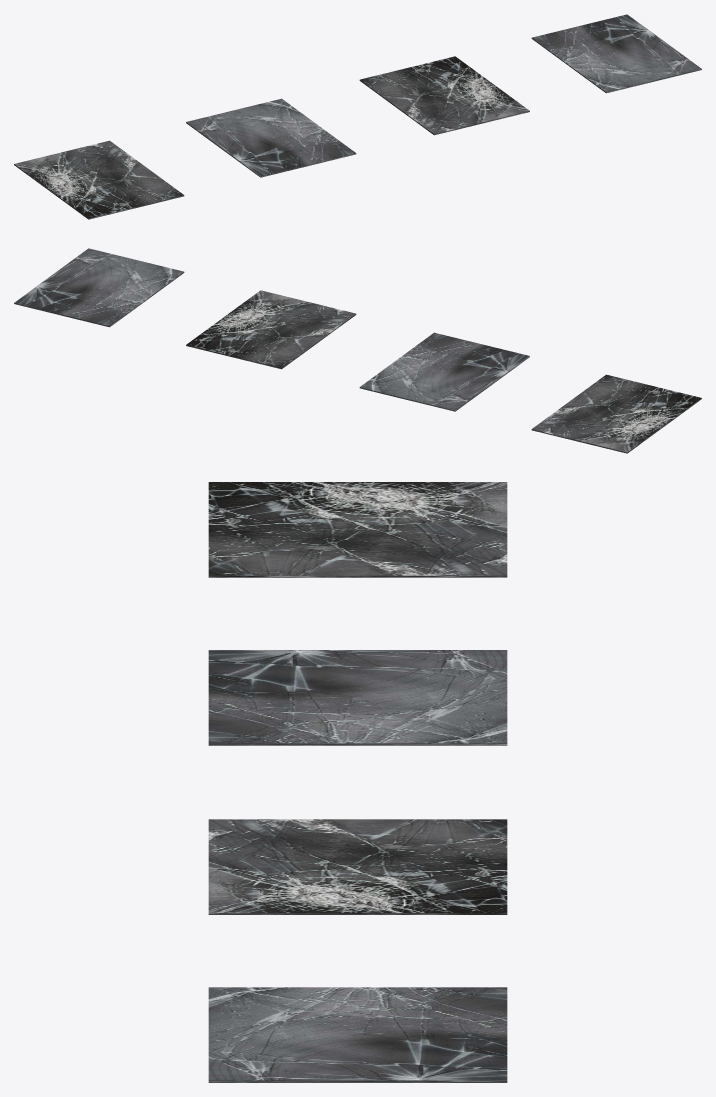
File: mirror.FBX
The picture shows the model from 3 angles, top to bottom: view 1: azimuth 30°, elevation 25°; view 2: azimuth 150°, elevation 25°; view 3: azimuth 270°, elevation 25°; orthographic projection. The views are drawn at different scales.
Visible parts, largest first — view 1: Box001, Box002, Box003, Box004; view 2: Box001, Box002, Box003, Box004; view 3: Box001, Box002, Box003, Box004.
Boxes of the visible parts, left/top/right/bottom form: Box001: left=14, top=140, right=184, bottom=219; Box002: left=186, top=98, right=356, bottom=177; Box003: left=531, top=14, right=701, bottom=93; Box004: left=359, top=56, right=529, bottom=135; Box001: left=531, top=374, right=701, bottom=453; Box002: left=359, top=332, right=529, bottom=411; Box003: left=14, top=248, right=184, bottom=327; Box004: left=186, top=290, right=356, bottom=369; Box001: left=208, top=482, right=507, bottom=577; Box002: left=208, top=650, right=507, bottom=745; Box003: left=208, top=987, right=507, bottom=1082; Box004: left=208, top=819, right=507, bottom=914.
Size of the model in its own units: 116 by 0.1969 by 24.46.
2 materials, 2 textured.
